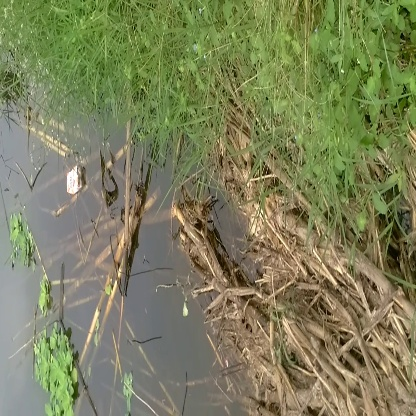milk-box: (62, 161, 92, 200)
